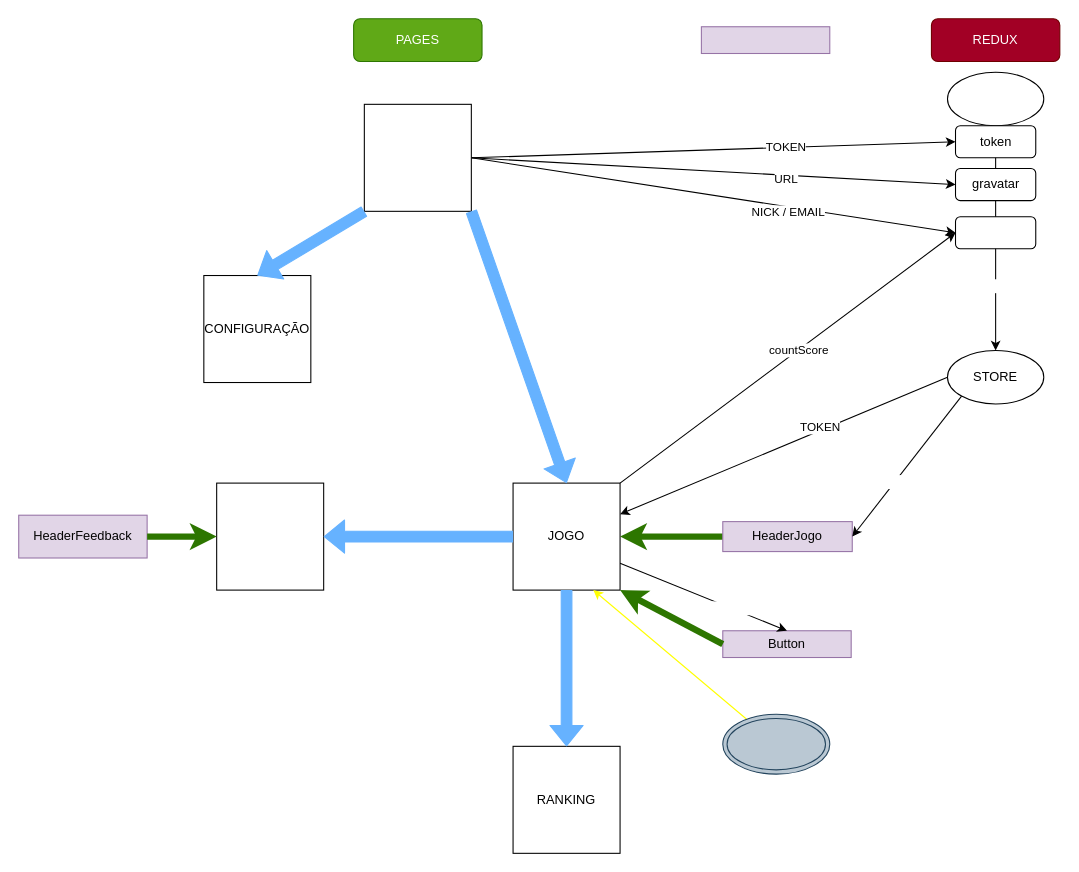
Some shapes in this 1079 by 872 pixel diagram are drawn without their labels. Each missing label, with the centre of its shape:
"COMPONENTS" belongs at (765,40).
"FEEDBACK" belongs at (270,536).
"LOGIN" belongs at (417,157).
"player" belongs at (995,232).
"REDUCERS" belongs at (995,98).
"TriviaAPI" belongs at (776,743).
